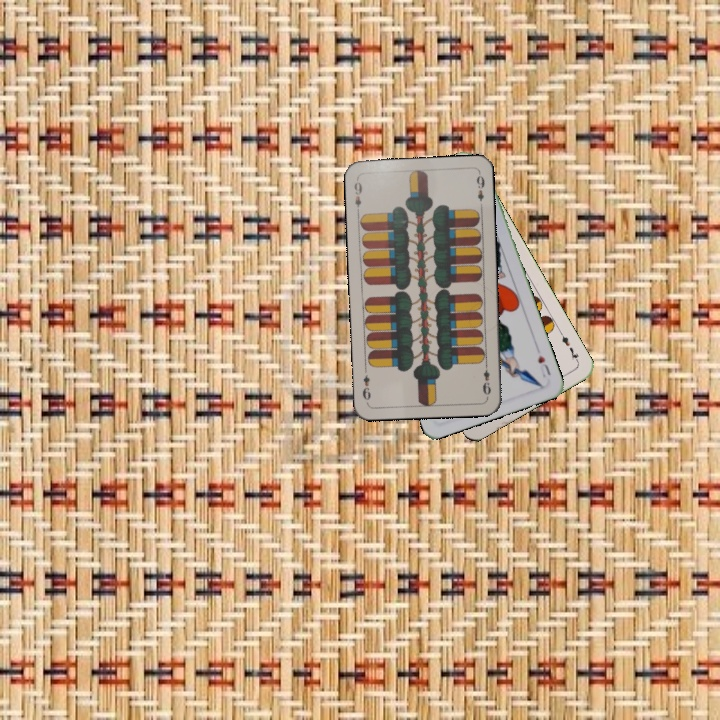E7: (556, 328, 581, 365)
E9: (350, 175, 365, 216), (479, 359, 494, 397)
HU: (534, 351, 553, 380)
